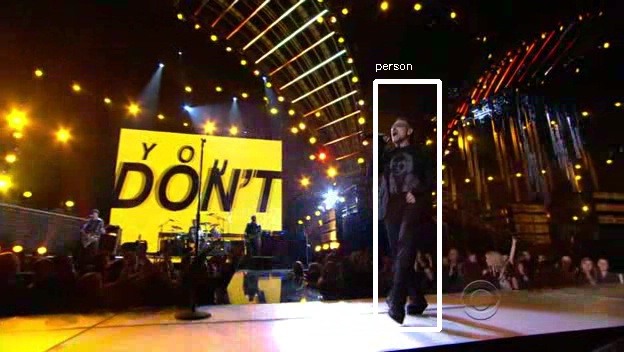person: (370, 118, 436, 226), (367, 118, 433, 226), (373, 118, 439, 226), (370, 115, 436, 223), (370, 121, 436, 229)
target_negative: (334, 90, 530, 321), (204, 106, 299, 339), (1, 210, 116, 276), (88, 250, 426, 271), (186, 343, 285, 351), (374, 56, 381, 78)
